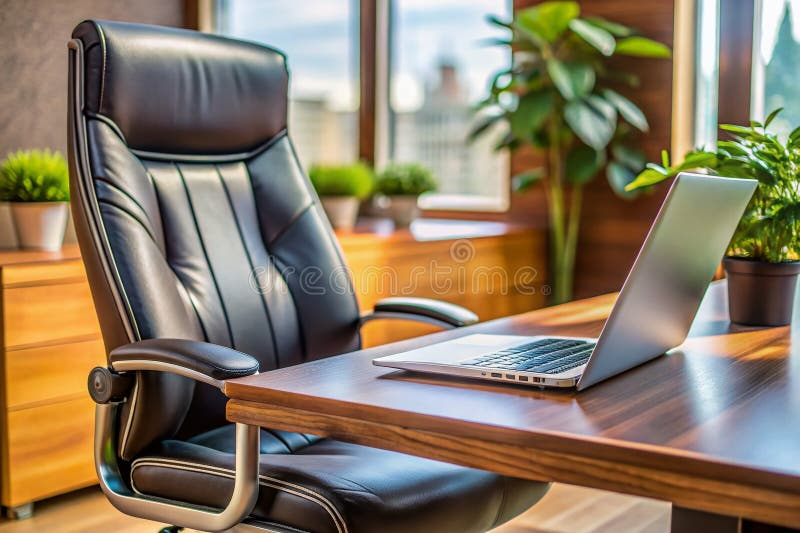not a gesture sign: (68, 20, 799, 532)
